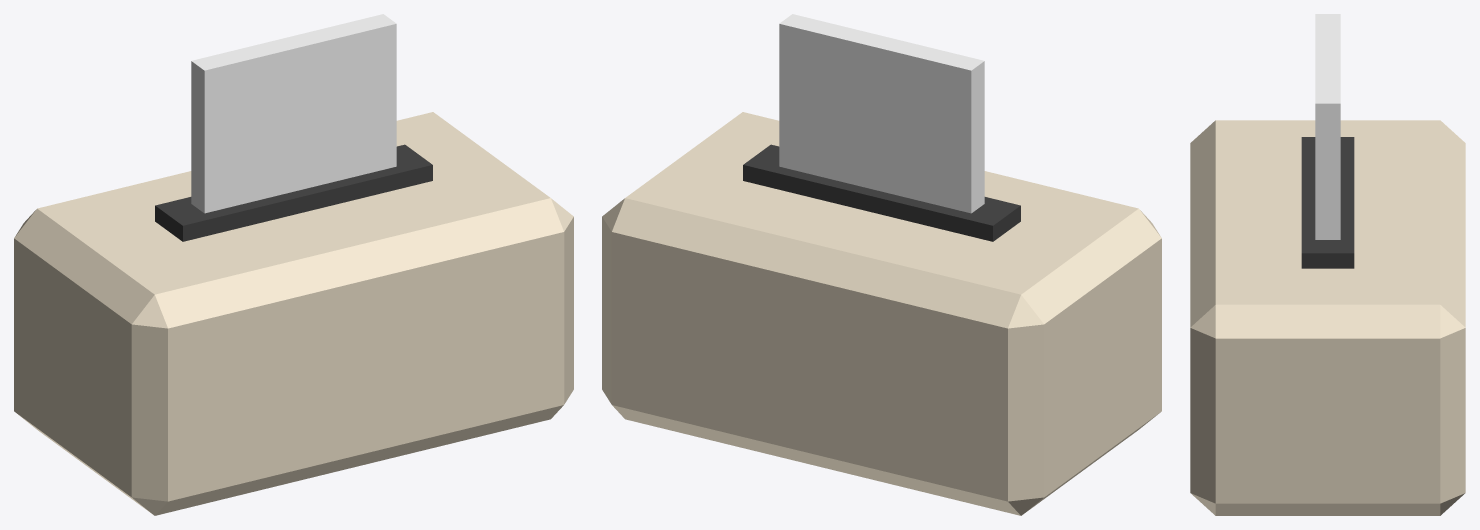
3 renders of one model, left to right at view 1: azimuth 30°, elevation 25°; view 2: azimuth 150°, elevation 25°; view 3: azimuth 270°, elevation 25°, orthographic. The views are drawn at different scales.
Parts seen in each view (by area): view 1: Tissue box, Tissue, Slot; view 2: Tissue box, Tissue, Slot; view 3: Tissue box, Tissue, Slot.
Boxes of the visible parts, left/top/right/bottom form: Tissue box: left=14, top=112, right=573, bottom=515; Tissue: left=191, top=14, right=396, bottom=213; Slot: left=155, top=144, right=432, bottom=241; Tissue box: left=602, top=112, right=1161, bottom=515; Tissue: left=779, top=14, right=984, bottom=213; Slot: left=743, top=144, right=1020, bottom=241; Tissue box: left=1190, top=120, right=1465, bottom=515; Tissue: left=1315, top=14, right=1340, bottom=239; Slot: left=1301, top=137, right=1354, bottom=268.
Size of the model in its own units: 0.23 by 0.19 by 0.13.
1 material, 1 textured.
